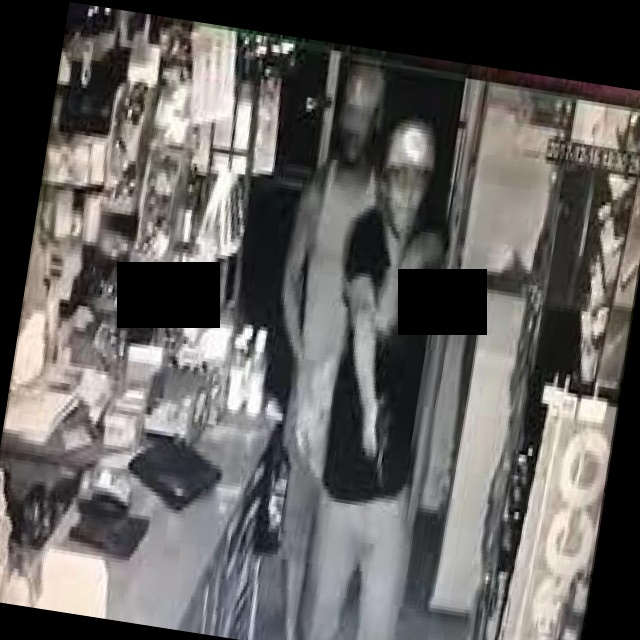gun: (351, 379, 409, 478)
